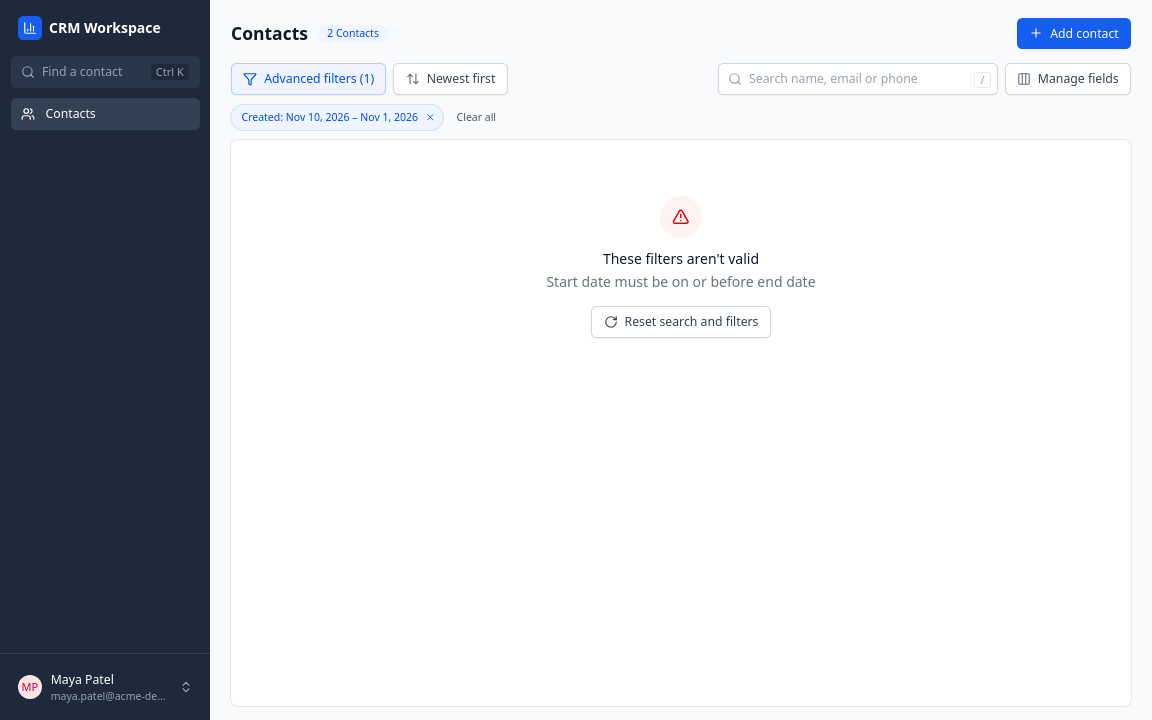
Test: ContactsPage › offers a reset when the URL holds filters the API rejects
Expected: the text "These filters aren't valid" is shown, [603, 248, 759, 268]
What coordinates should you click on to do the following:
click the button "Reset search and filters"
I would click on:
 (681, 322)
Its box is [591, 306, 771, 338].
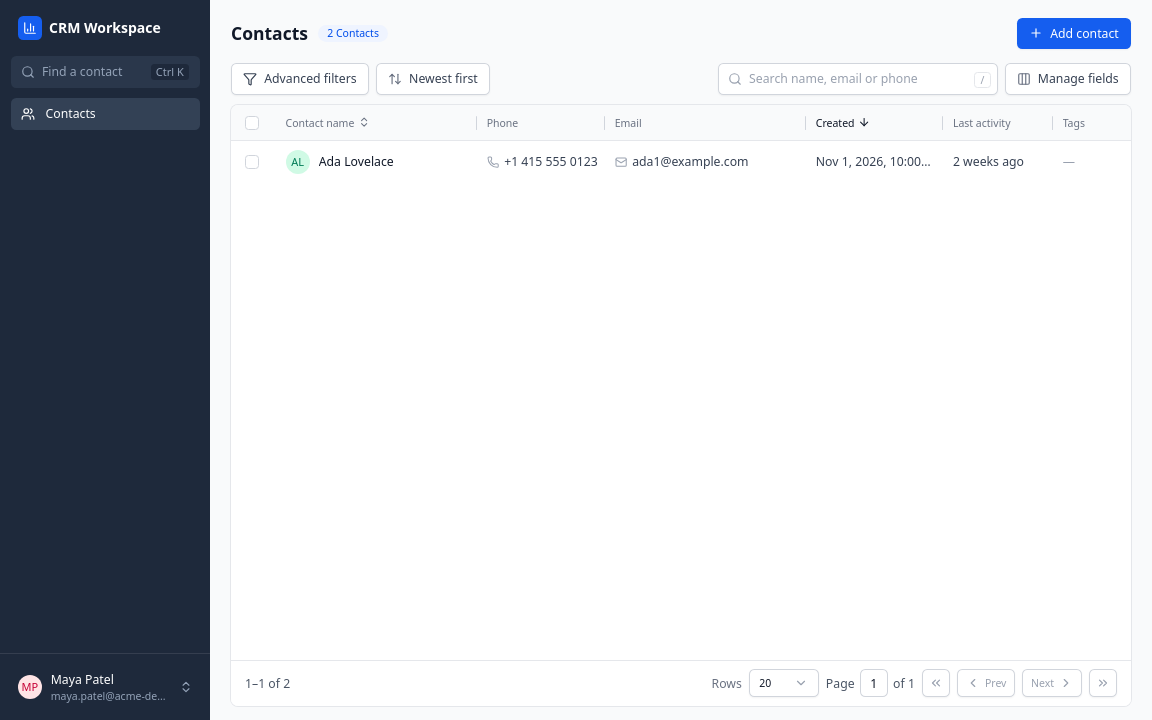
Expected: the link "AL Ada Lovelace" is shown, [286, 150, 394, 174]
